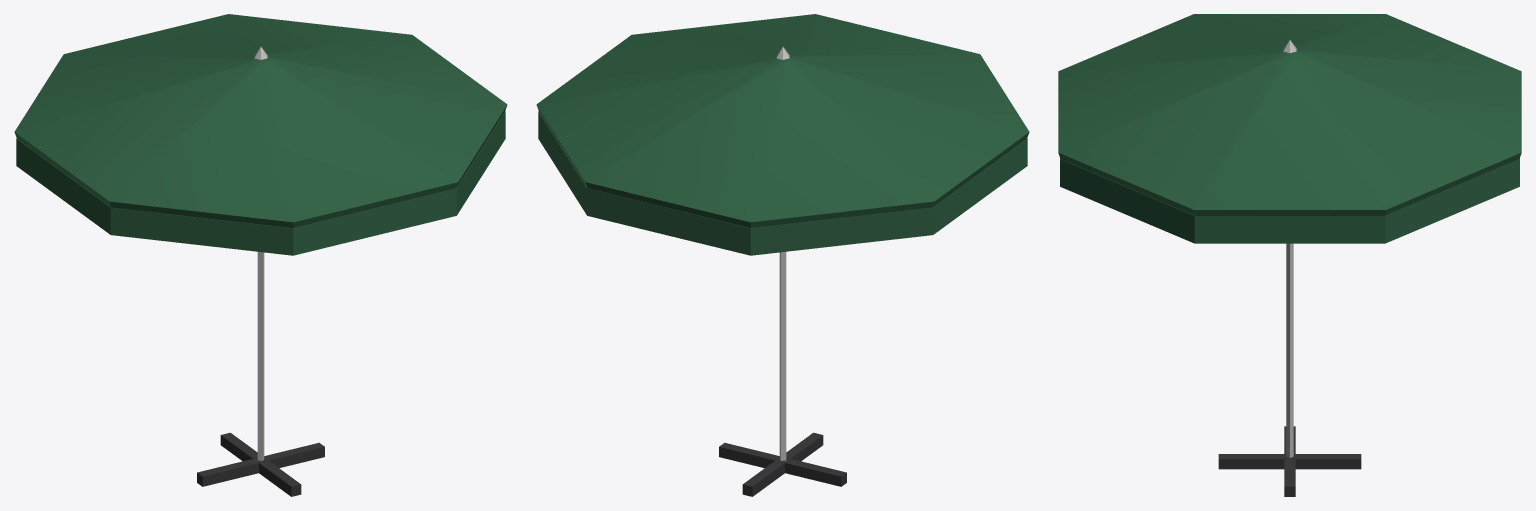
File: SM_Prop_cafe_parasol_1_LOD1.glb
The picture shows the model from 3 angles, left to right: view 1: azimuth 30°, elevation 25°; view 2: azimuth 150°, elevation 25°; view 3: azimuth 270°, elevation 25°; orthographic projection.
Parts seen in each view (by area): view 1: SM_Prop_cafe_parasol_1_LOD1; view 2: SM_Prop_cafe_parasol_1_LOD1; view 3: SM_Prop_cafe_parasol_1_LOD1.
Part boxes in pixels (box(x1,y1,x2,y2)): SM_Prop_cafe_parasol_1_LOD1: box(14, 14, 507, 496); SM_Prop_cafe_parasol_1_LOD1: box(536, 14, 1029, 496); SM_Prop_cafe_parasol_1_LOD1: box(1058, 14, 1521, 496).
Size of the model in its own units: 2.44 by 2.48 by 2.44.
